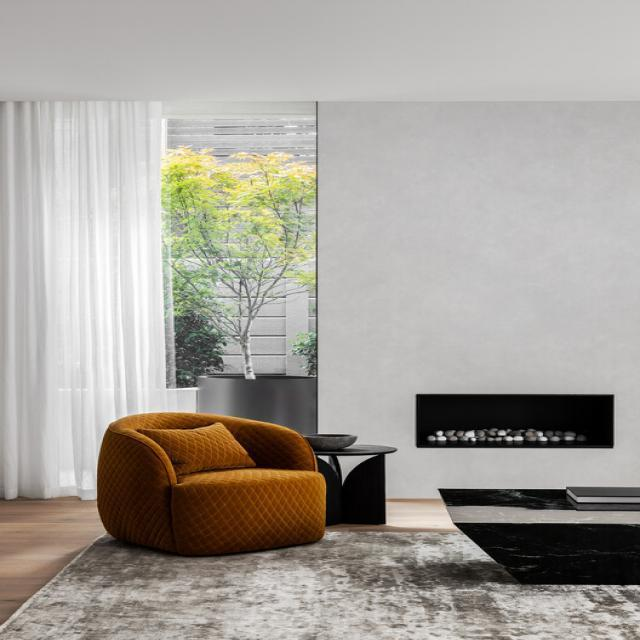couch: (95, 411, 327, 558)
